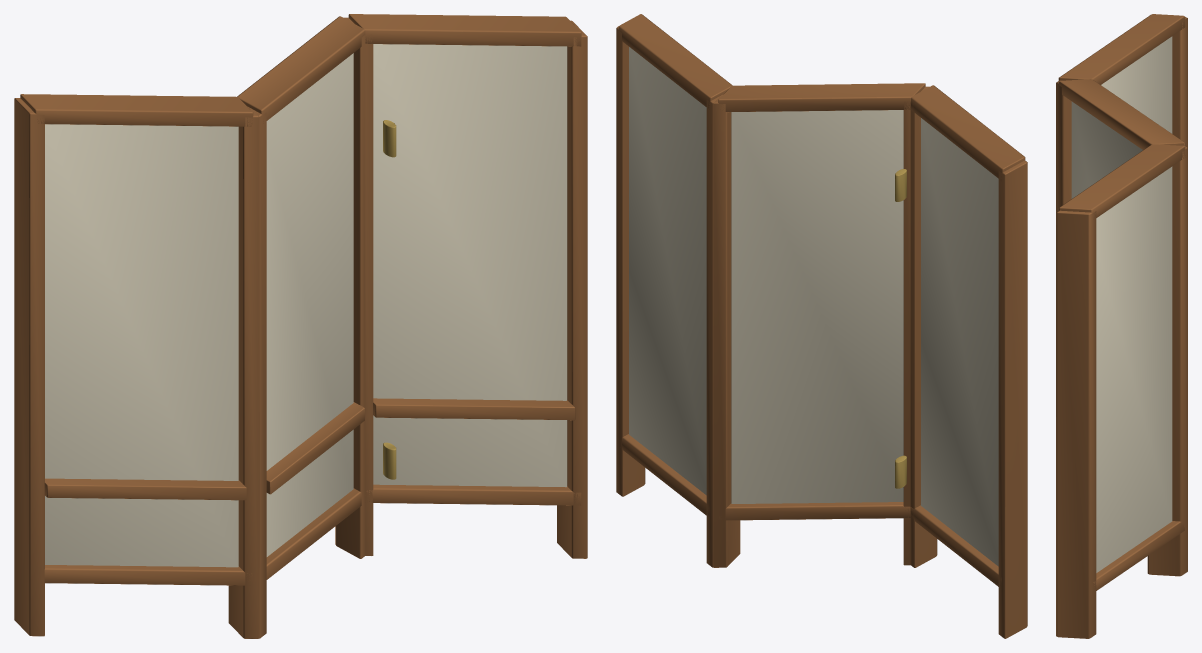
File: S034_folding_privacy_screen_rebuilt.glb
The picture shows the model from 3 angles, left to right: view 1: azimuth 30°, elevation 25°; view 2: azimuth 150°, elevation 25°; view 3: azimuth 270°, elevation 25°; orthographic projection. The views are drawn at different scales.
Parts seen in each view (by area): view 1: Warm_ivory, Oiled_warm_oak, Satin_brass; view 2: Warm_ivory, Oiled_warm_oak, Satin_brass; view 3: Oiled_warm_oak, Warm_ivory.
Part boxes in pixels (<box>): Warm_ivory: <box>45,44,567,567</box>; Oiled_warm_oak: <box>14,14,587,638</box>; Satin_brass: <box>383,120,396,479</box>; Warm_ivory: <box>629,47,998,566</box>; Oiled_warm_oak: <box>616,14,1027,638</box>; Satin_brass: <box>895,169,906,488</box>; Oiled_warm_oak: <box>1056,14,1187,638</box>; Warm_ivory: <box>1071,36,1172,572</box>.
Bounding box in the file's own units: 1.86 × 1.86 × 0.5186.
